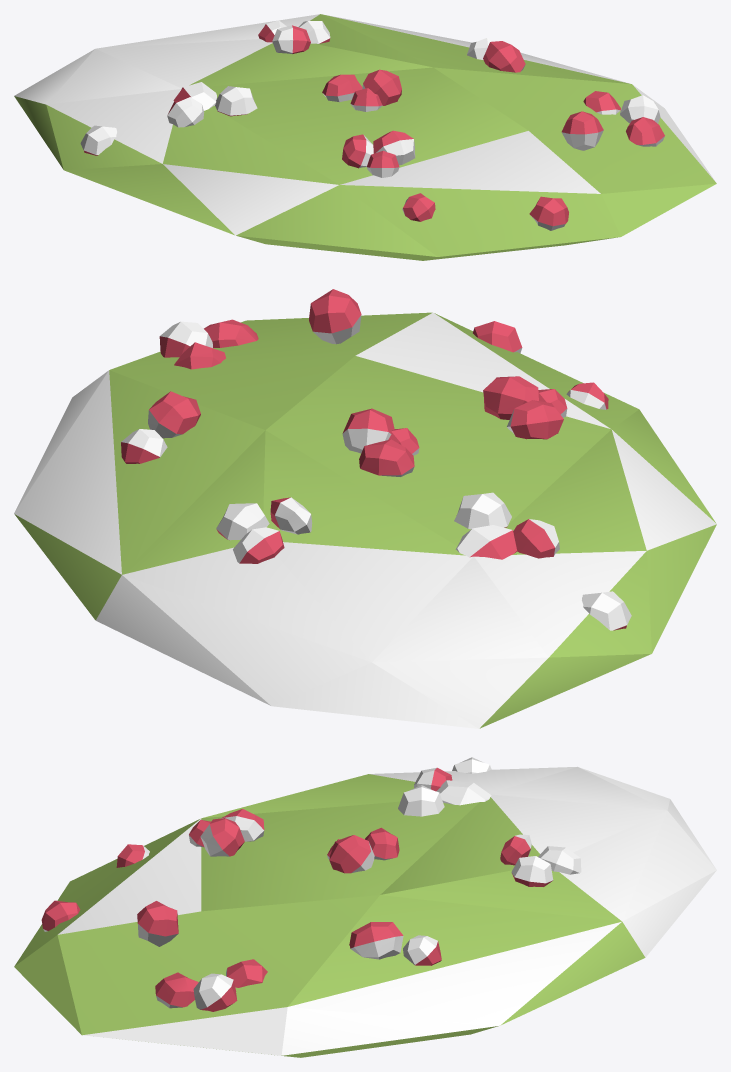
The model's file is lingonberry_1.fbx.
The picture shows the model from 3 angles, top to bottom: view 1: azimuth 30°, elevation 25°; view 2: azimuth 150°, elevation 25°; view 3: azimuth 270°, elevation 25°; orthographic projection. The views are drawn at different scales.
Visible parts, largest first — view 1: Apple_Snow_01.001; view 2: Apple_Snow_01.001; view 3: Apple_Snow_01.001.
Boxes of the visible parts, x1=… form: Apple_Snow_01.001: x1=14, y1=14, x2=716, y2=260; Apple_Snow_01.001: x1=14, y1=289, x2=716, y2=728; Apple_Snow_01.001: x1=14, y1=757, x2=716, y2=1057.
Size of the model in its own units: 1.8 by 0.3547 by 1.93.
Materials: 1 (1 with a texture image).
